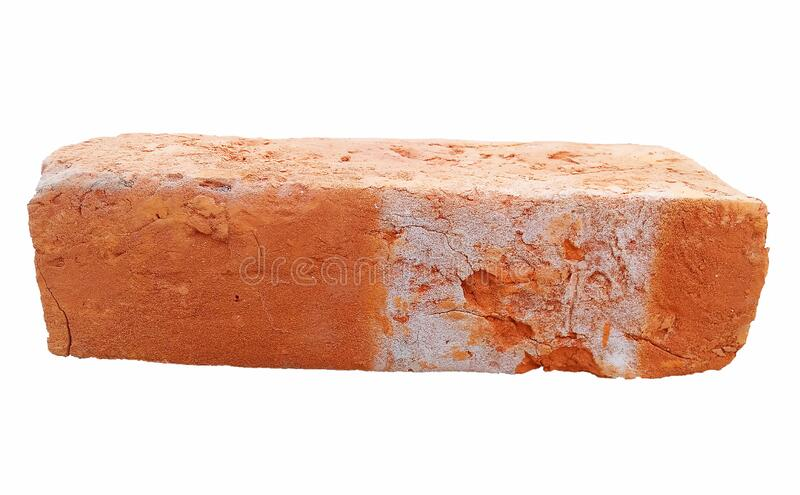brick: (42, 155, 741, 370)
